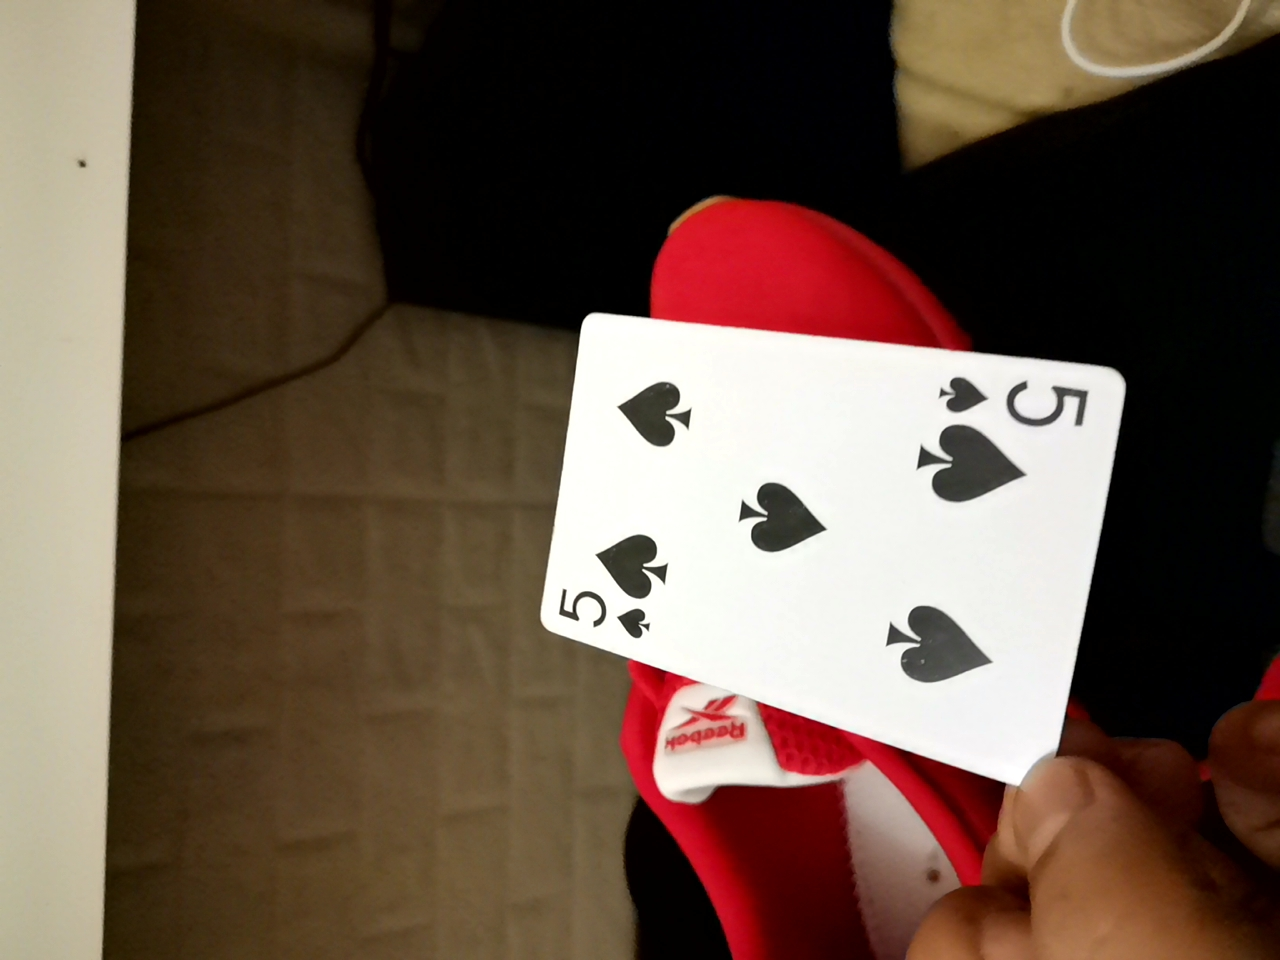ht 5: (540, 317, 1114, 786)
